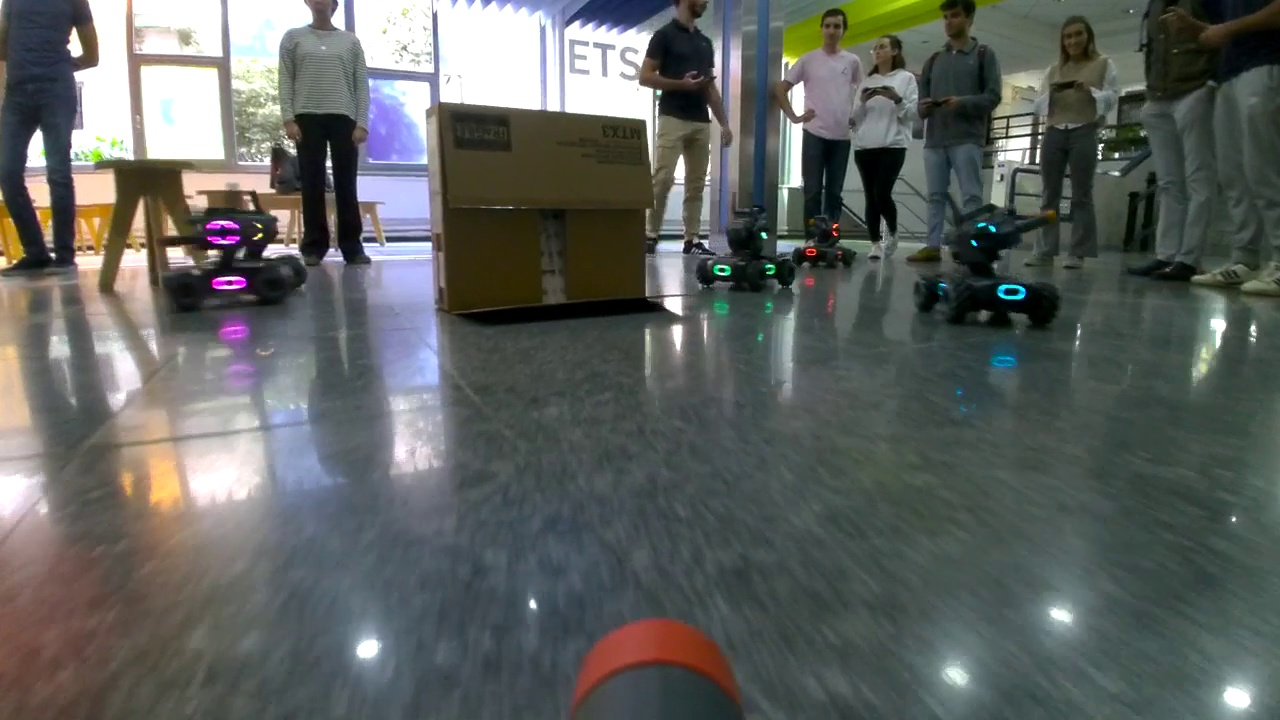robot: (909, 198, 1069, 330), (162, 202, 307, 316), (696, 207, 802, 294), (794, 210, 862, 271)
